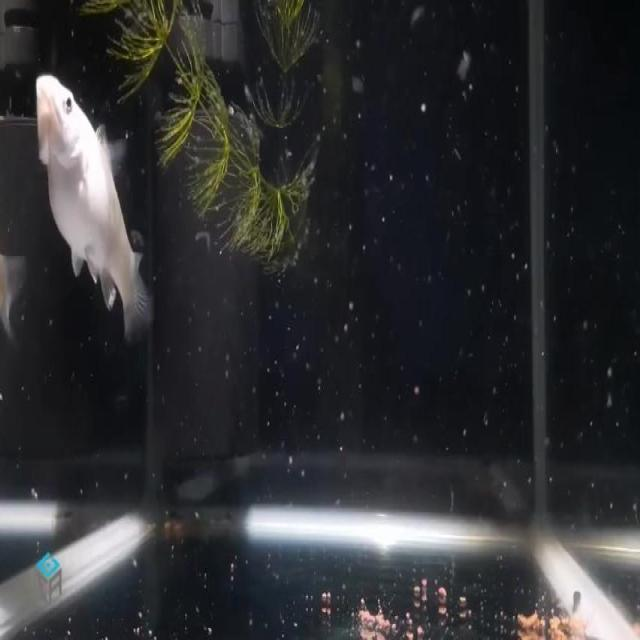PlatyFish: (27, 55, 164, 366)
